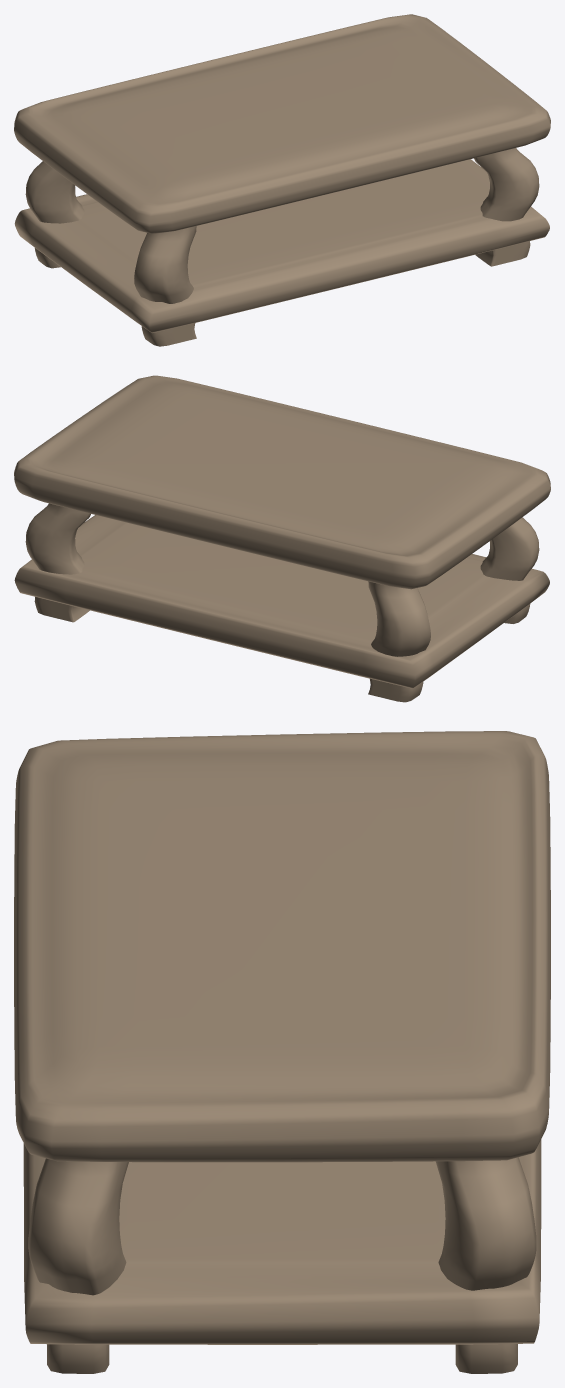
The model's file is table1.fbx.
3 renders of one model, top to bottom at view 1: azimuth 30°, elevation 25°; view 2: azimuth 150°, elevation 25°; view 3: azimuth 270°, elevation 25°, orthographic. The views are drawn at different scales.
Visible parts, largest first — view 1: table1; view 2: table1; view 3: table1.
Part boxes in pixels (<box>): table1: <box>14,14,550,346</box>; table1: <box>14,375,550,702</box>; table1: <box>14,731,550,1373</box>.
Bounding box in the file's own units: 284 × 97.73 × 166.
